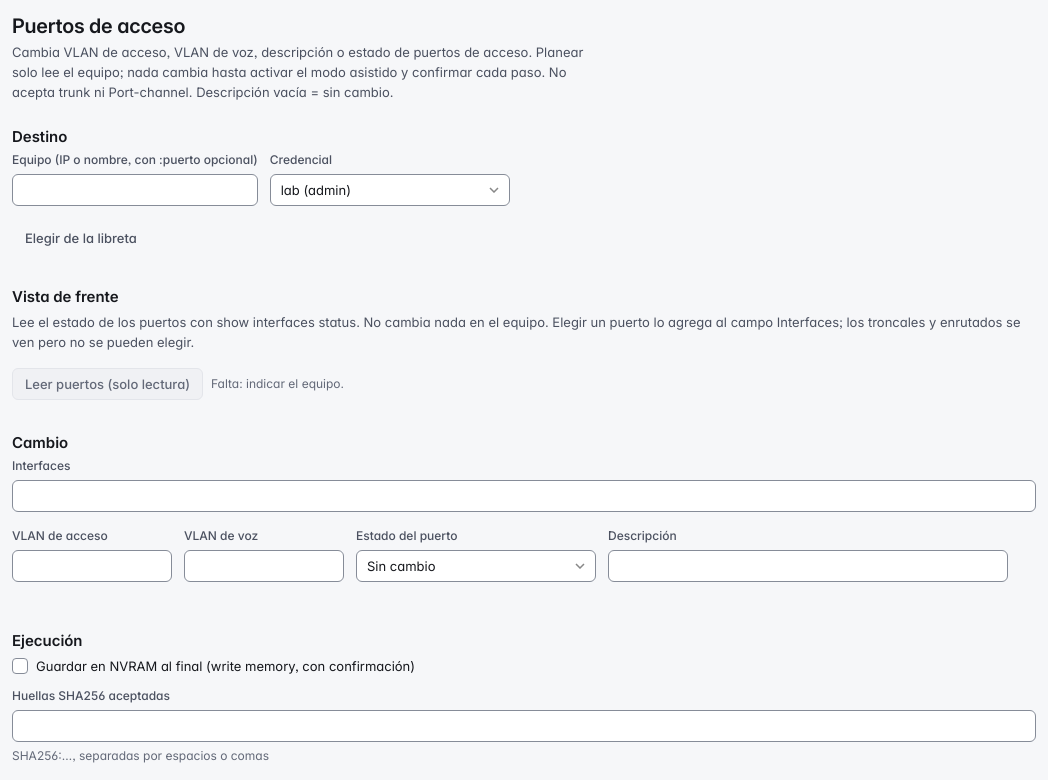
Test: leer puertos manda el equipo y la credencial y dibuja el frente con un botón por puerto
Expected: the button "Leer puertos (solo lectura)" is disabled, [12,368,203,400]
In the field labelled "Equipo (IP o nombre, con :puerto opcional)": (135, 190) [12,174,258,206], type "10.0.0.5:2222"
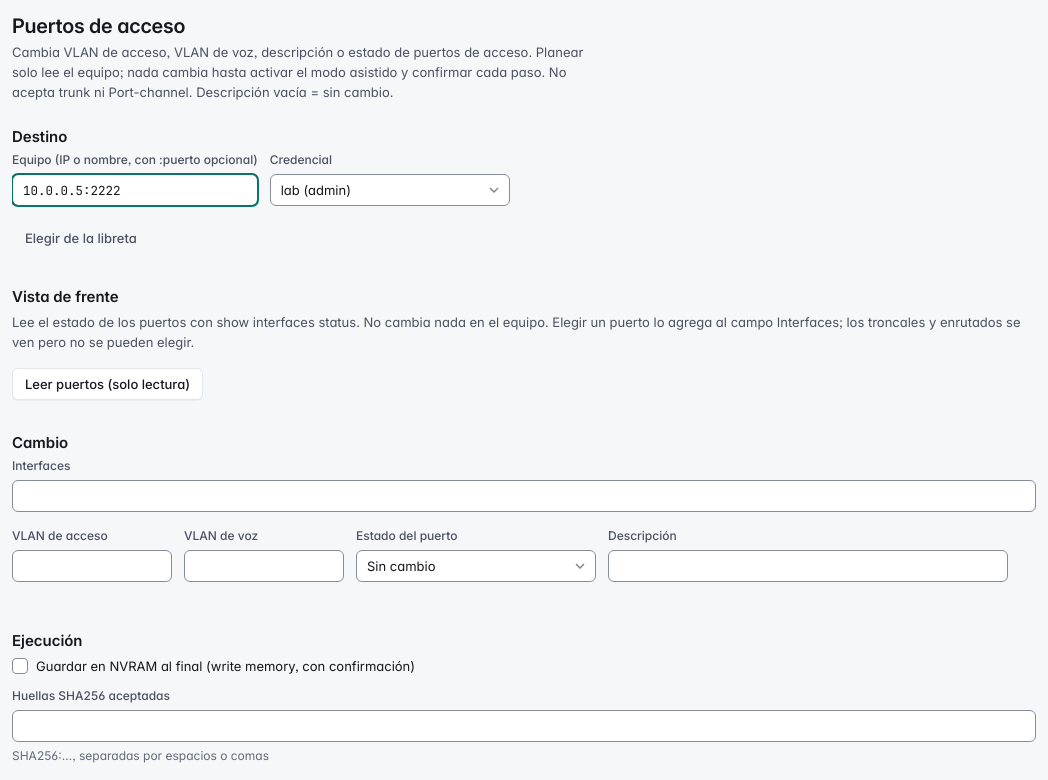
Click the button "Leer puertos (solo lectura)": (108, 384) [12,368,203,400]
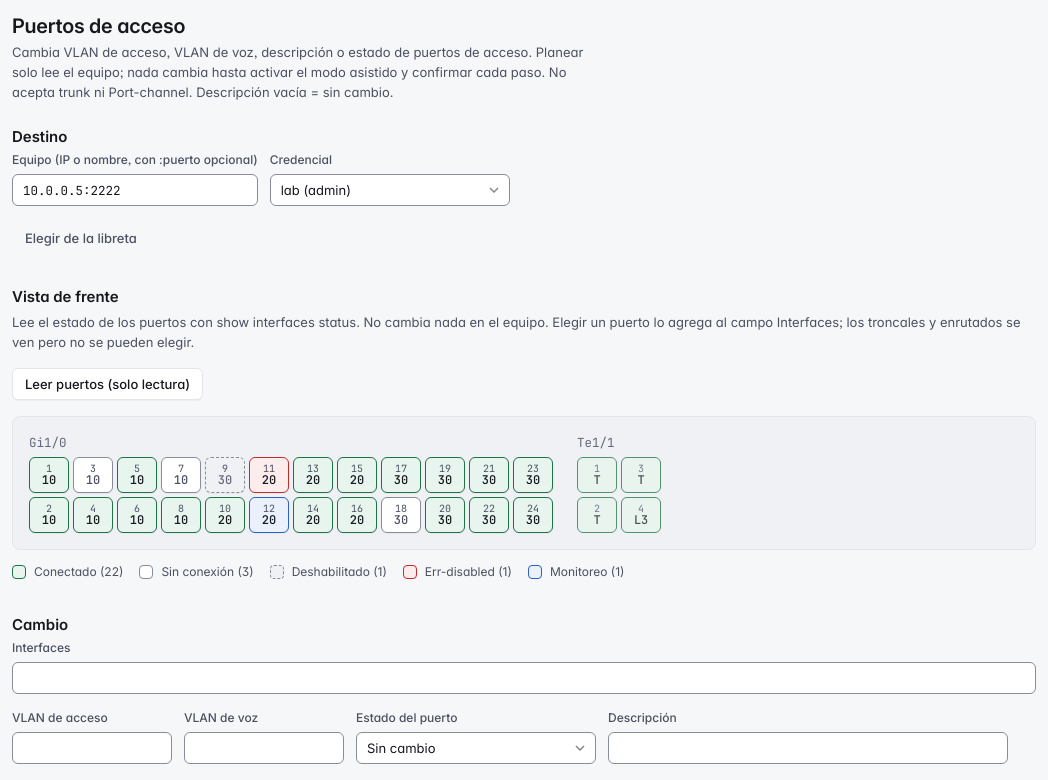
Result: the button named "Gi1/0/3, sin conexión, VLAN 10" is shown at [73,457,113,493]
Result: the button named "Gi1/0/9, deshabilitado, VLAN 30" is shown at [205,457,245,493]
Result: the button named "Gi1/0/11, err-disabled, VLAN 20" is shown at [249,457,289,493]
